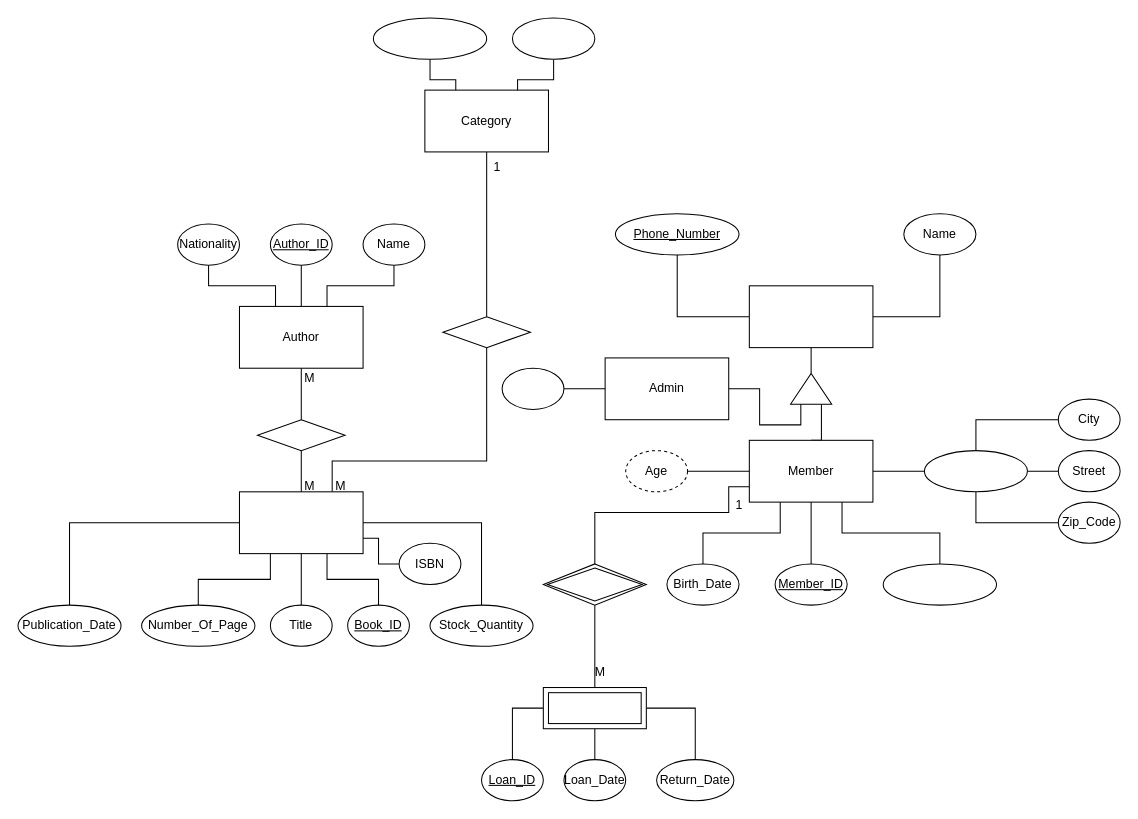
Image size: 1138x819. Some labels were removed from this diagram. The shapes that lost their labels are listed below. From the top down, each one's centre as x and y in pixels, then its label:
At point 429,38: "Category_Name".
At point 553,38: "Category_ID".
At point 486,332: "Blongs_To".
At point 810,316: "Person".
At point 532,388: "Admin_ID".
At point 300,435: "Writes".
At point 975,471: "Address".
At point 300,522: "Book".
At point 594,584: "Borrows".
At point 939,584: "Registration_Date".
At point 594,707: "Loan_Record".
